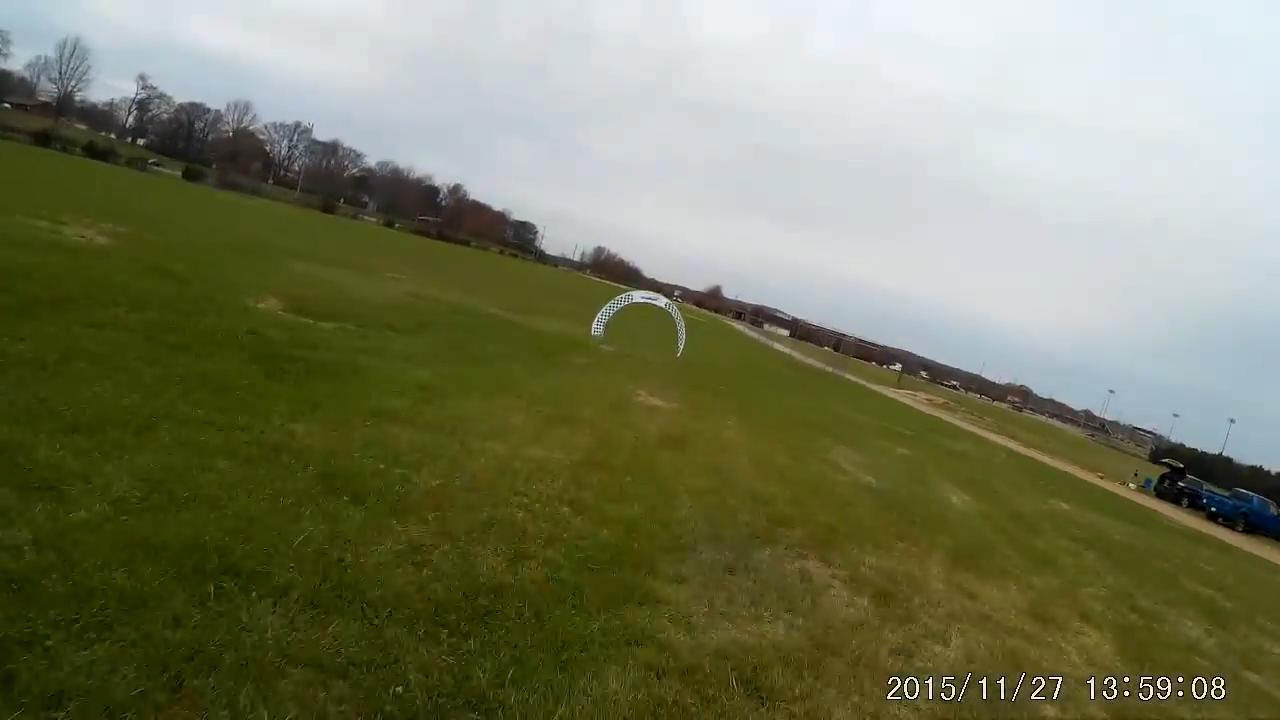gate: (587, 289, 688, 360)
